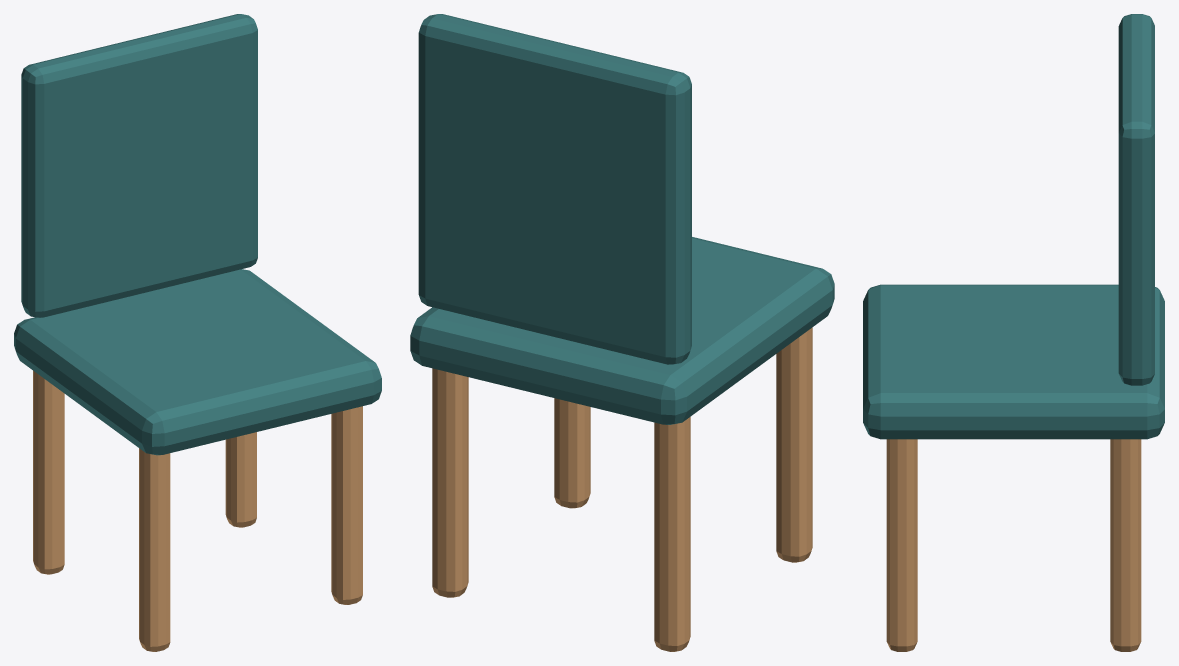
File: bedroom_chair.glb
3 views of the same model, side by side, from view 1: azimuth 30°, elevation 25°; view 2: azimuth 150°, elevation 25°; view 3: azimuth 270°, elevation 25° (orthographic). The views are drawn at different scales.
Parts seen in each view (by area): view 1: bedroom_chair_Mesh; view 2: bedroom_chair_Mesh; view 3: bedroom_chair_Mesh.
Boxes of the visible parts, x1,y1,x2,y2 form: bedroom_chair_Mesh: (14,14,381,651); bedroom_chair_Mesh: (410,14,834,651); bedroom_chair_Mesh: (863,14,1164,651).
Bounding box in the file's own units: 0.52 × 1.05 × 0.54.
